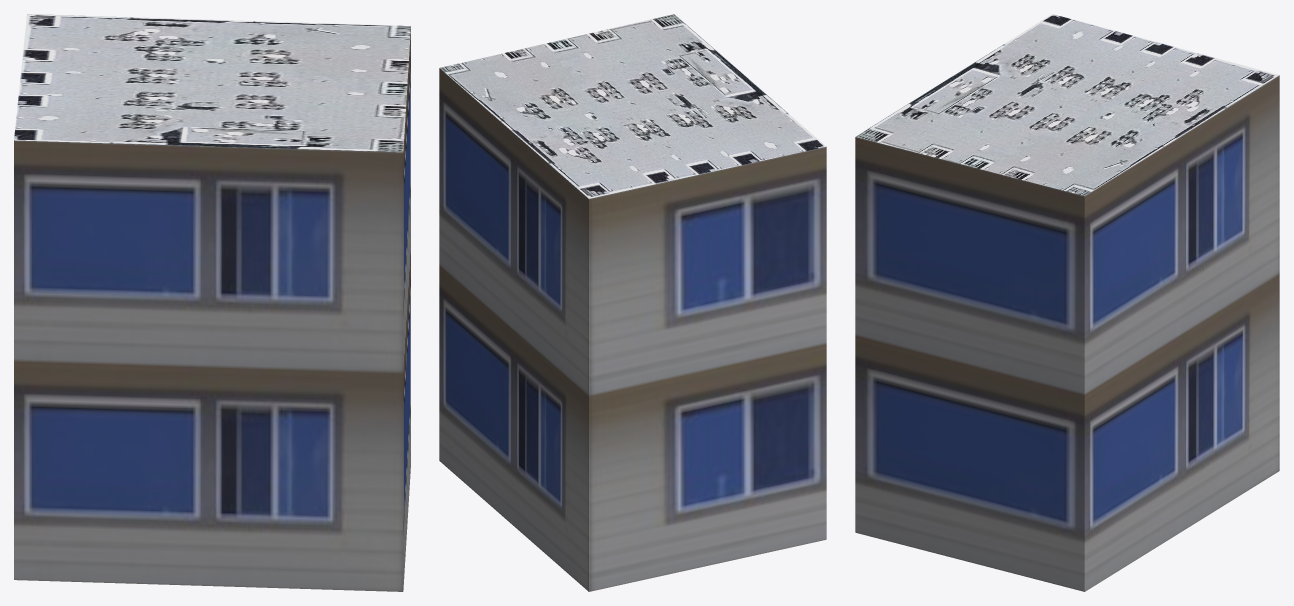
The model's file is ResTex__2468.fbx.
3 renders of one model, left to right at view 1: azimuth 30°, elevation 25°; view 2: azimuth 150°, elevation 25°; view 3: azimuth 270°, elevation 25°, orthographic. The views are drawn at different scales.
Visible parts, largest first — view 1: CityEngineMaterial_23_m, CityEngineMaterial_2_m; view 2: CityEngineMaterial_23_m, CityEngineMaterial_2_m; view 3: CityEngineMaterial_23_m, CityEngineMaterial_2_m.
Part boxes in pixels (x1=…): CityEngineMaterial_23_m: x1=14, y1=29, x2=410, y2=591; CityEngineMaterial_2_m: x1=14, y1=14, x2=410, y2=152; CityEngineMaterial_23_m: x1=439, y1=68, x2=826, y2=591; CityEngineMaterial_2_m: x1=440, y1=14, x2=825, y2=198; CityEngineMaterial_23_m: x1=855, y1=75, x2=1279, y2=591; CityEngineMaterial_2_m: x1=855, y1=14, x2=1279, y2=196.
Bounding box in the file's own units: 5.93 × 6 × 5.84.
Materials: 2 (2 with a texture image).
